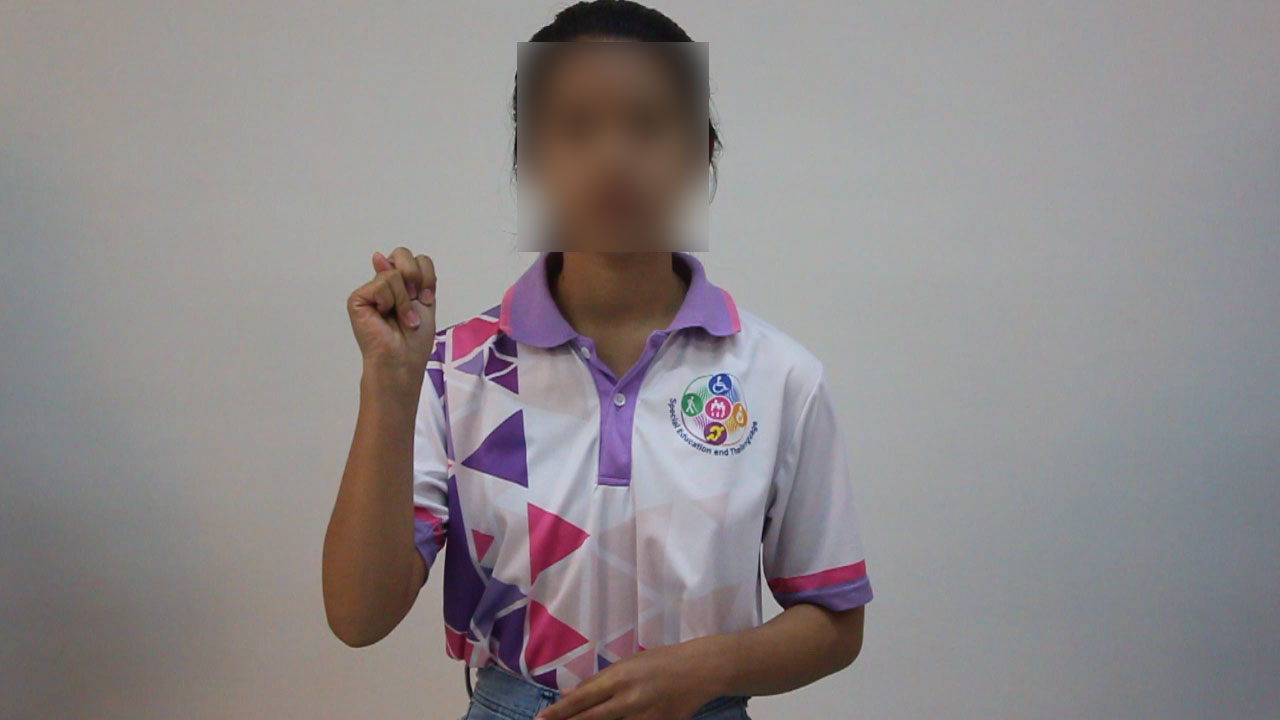nor: (334, 235, 454, 380)
